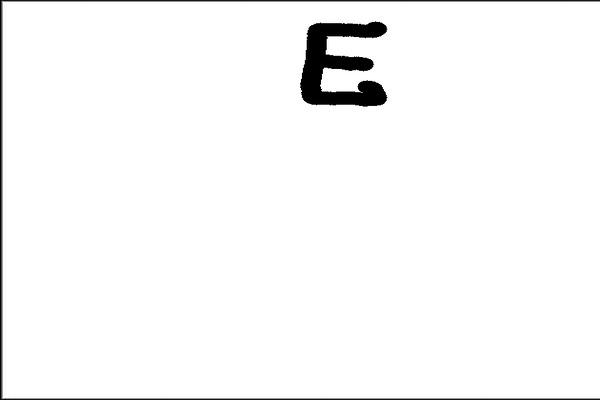E: (296, 16, 394, 111)
